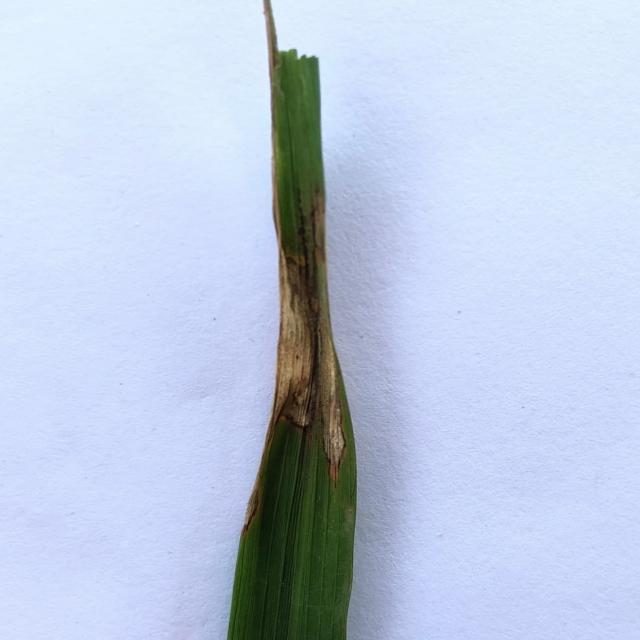leaf blight: (272, 195, 349, 474), (240, 479, 269, 533)
